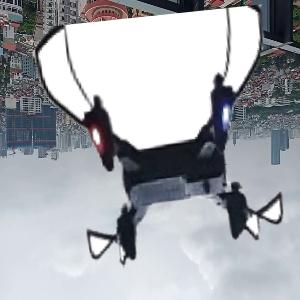drone: (42, 16, 294, 268)
